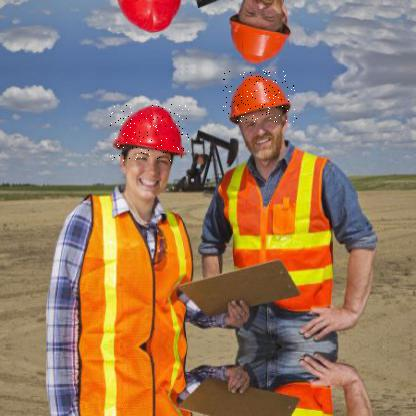safetyhelmet: (110, 104, 190, 162), (223, 69, 298, 123)
